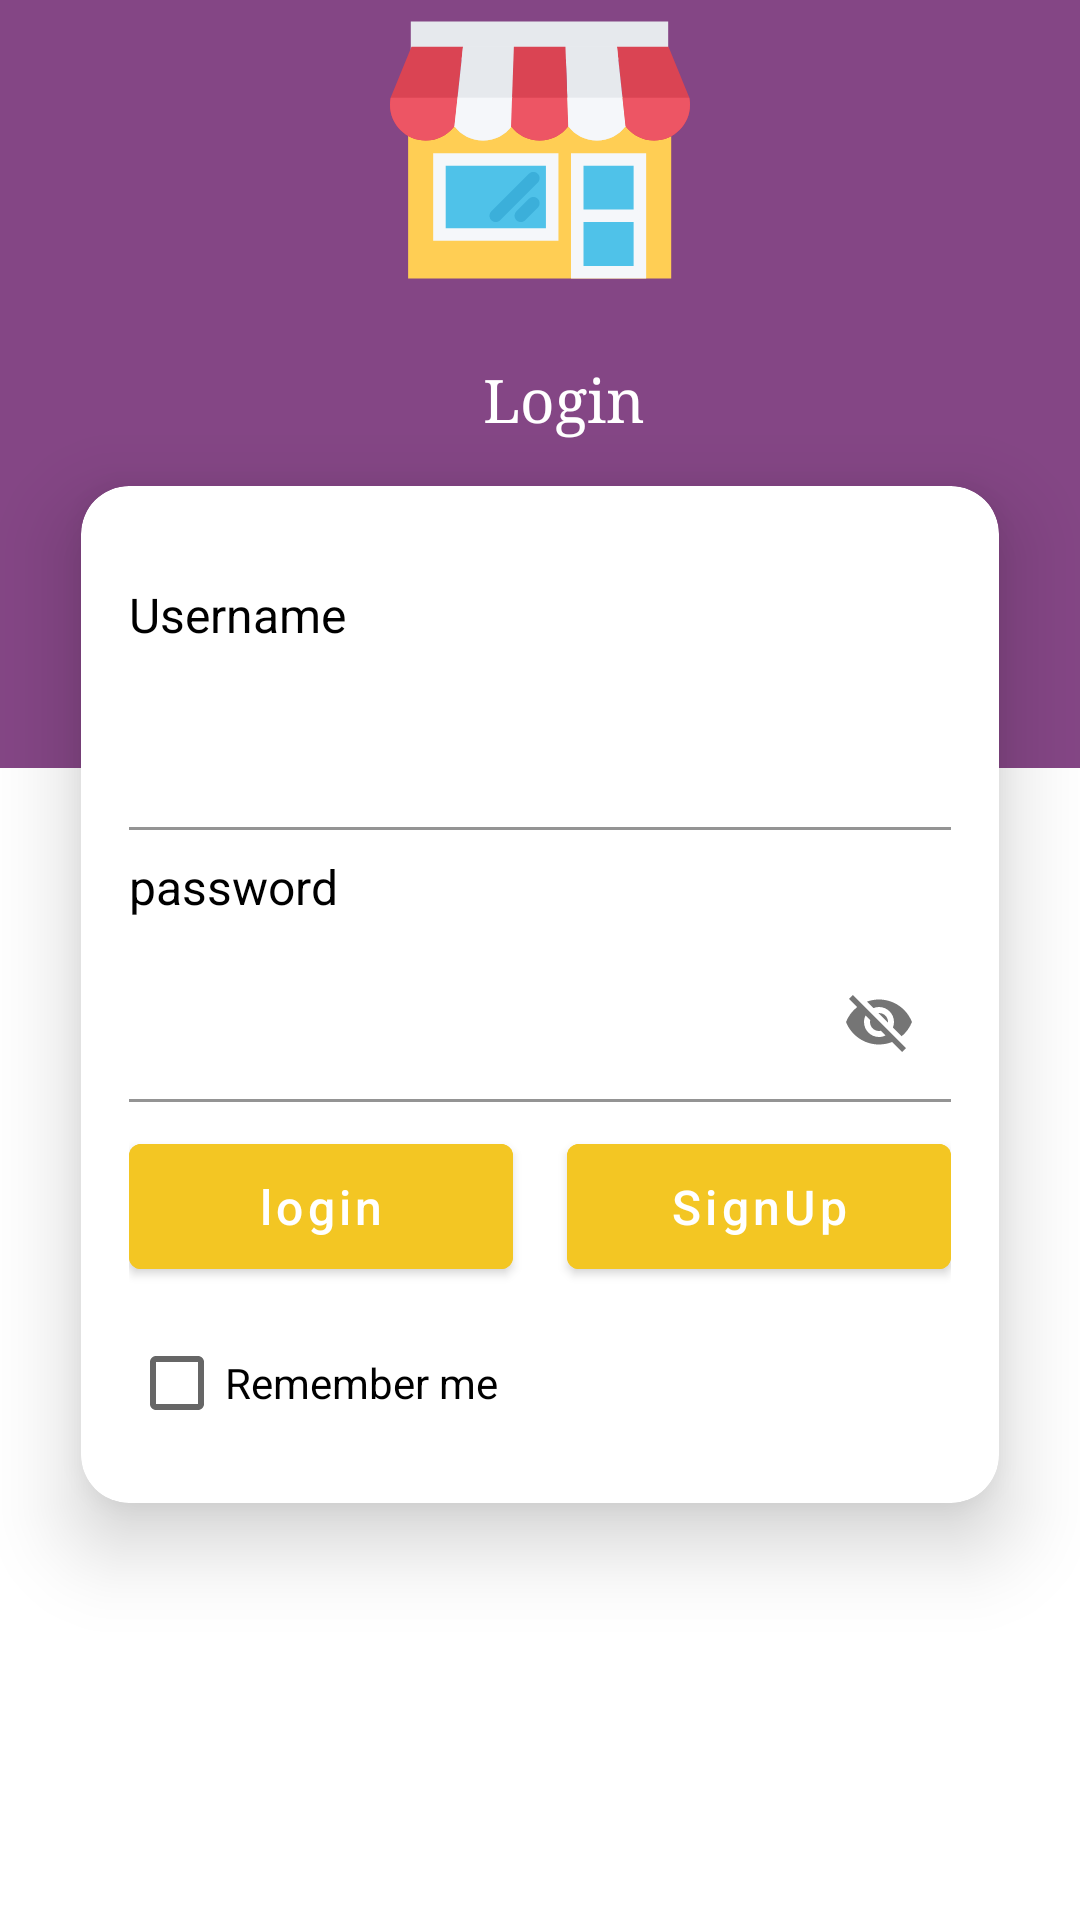

Icons on this 1080x1920 Android screen, each with the point to tap as [x,y]:
shop: [540,150]
